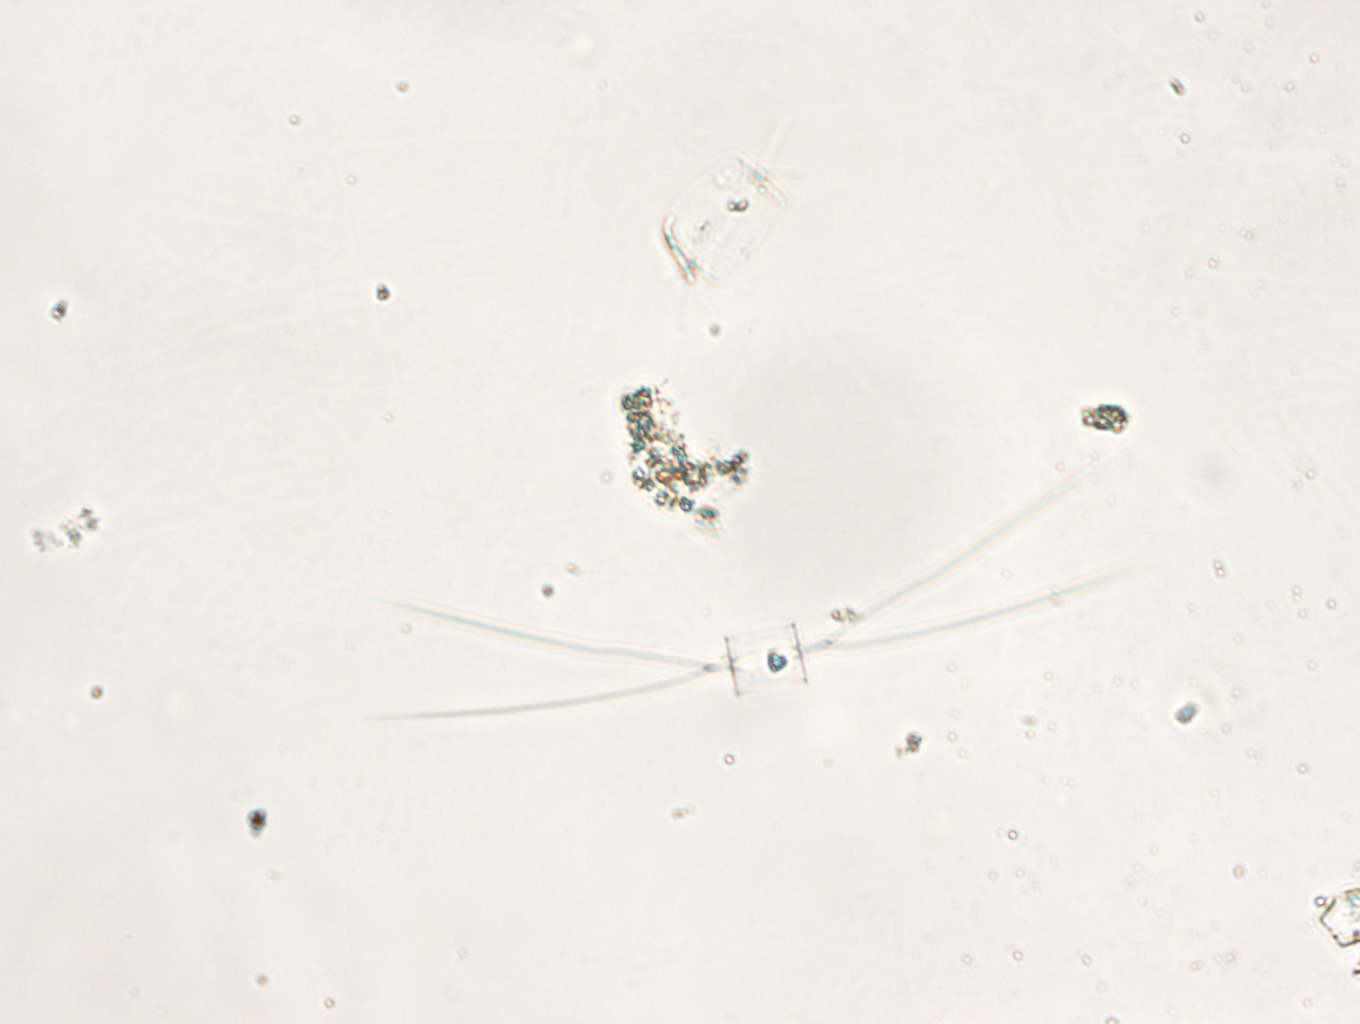chaetoceros: (380, 463, 1126, 727)
